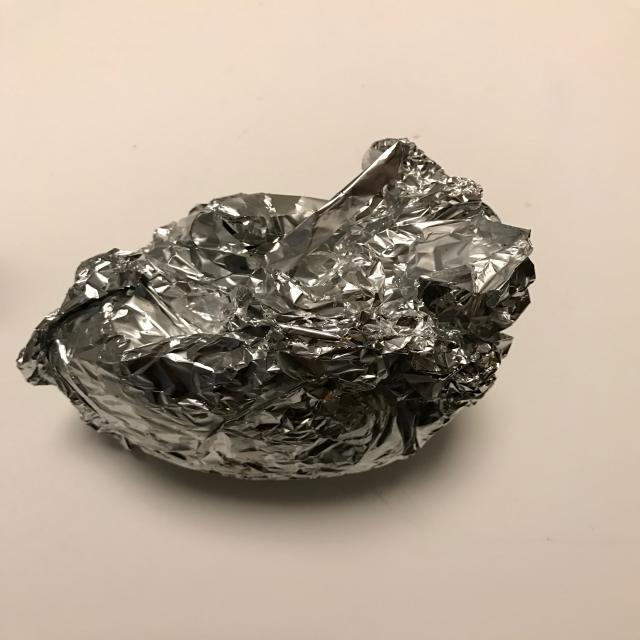metal: (19, 135, 538, 484)
